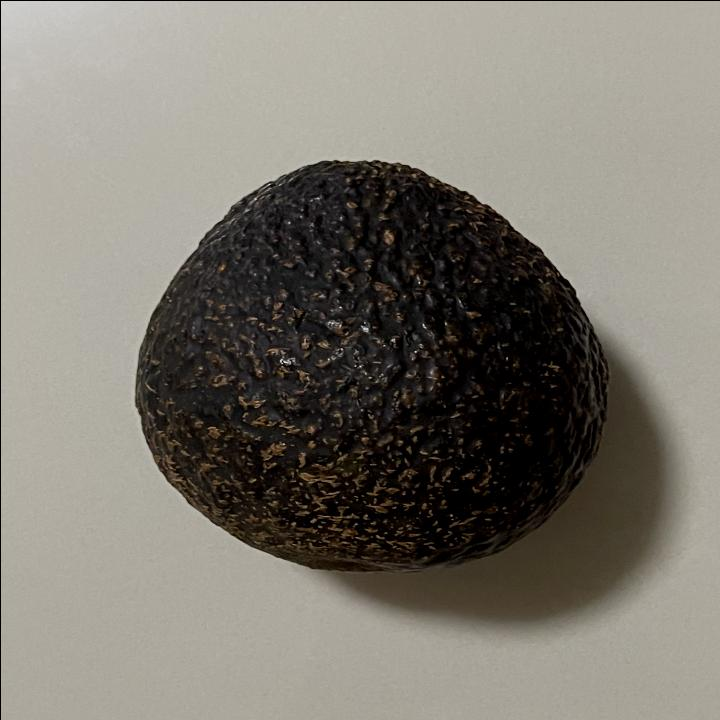Level3: (125, 148, 615, 577)
